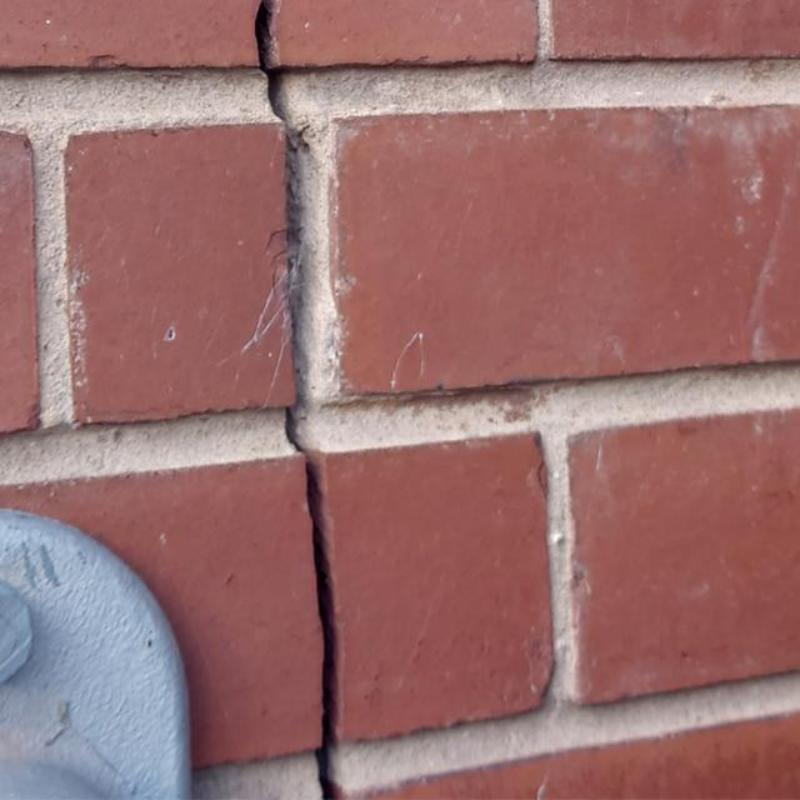pothole: (258, 0, 334, 800)
